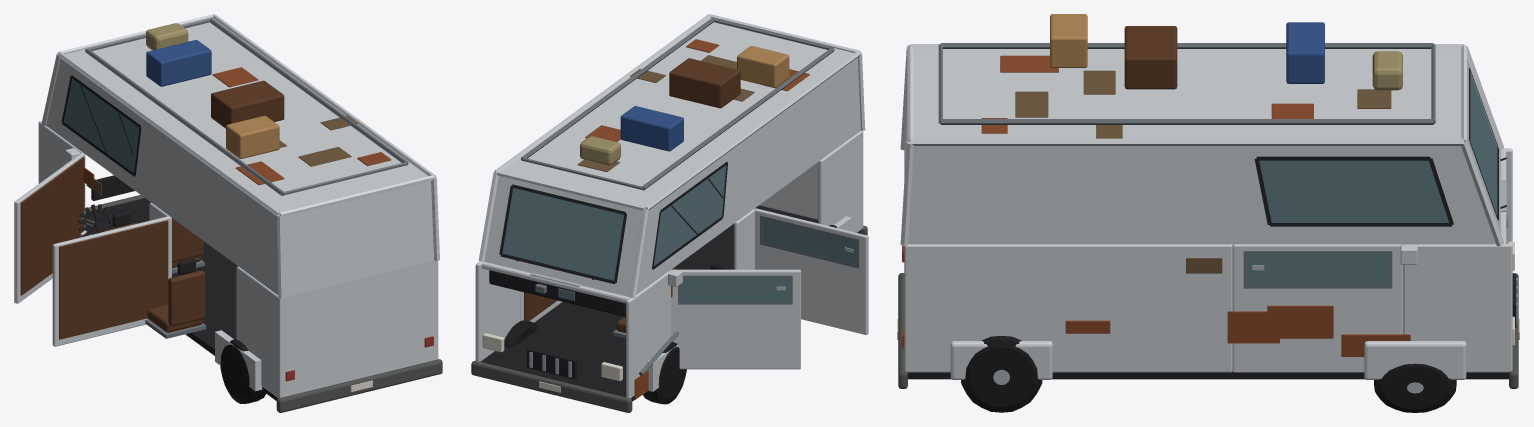
File: car_jam_van.glb
3 renders of one model, left to right at view 1: azimuth 30°, elevation 25°; view 2: azimuth 150°, elevation 25°; view 3: azimuth 270°, elevation 25°, orthographic. The views are drawn at different scales.
Visible parts, largest first — view 1: car_jam_van; view 2: car_jam_van; view 3: car_jam_van.
Part boxes in pixels (bbox=[...]): car_jam_van: bbox=[14, 14, 442, 412]; car_jam_van: bbox=[471, 14, 868, 412]; car_jam_van: bbox=[897, 14, 1519, 412].
Size of what is drawn, in the model's own units: 3.4 by 2.83 by 5.12.
2 materials, 2 textured.
